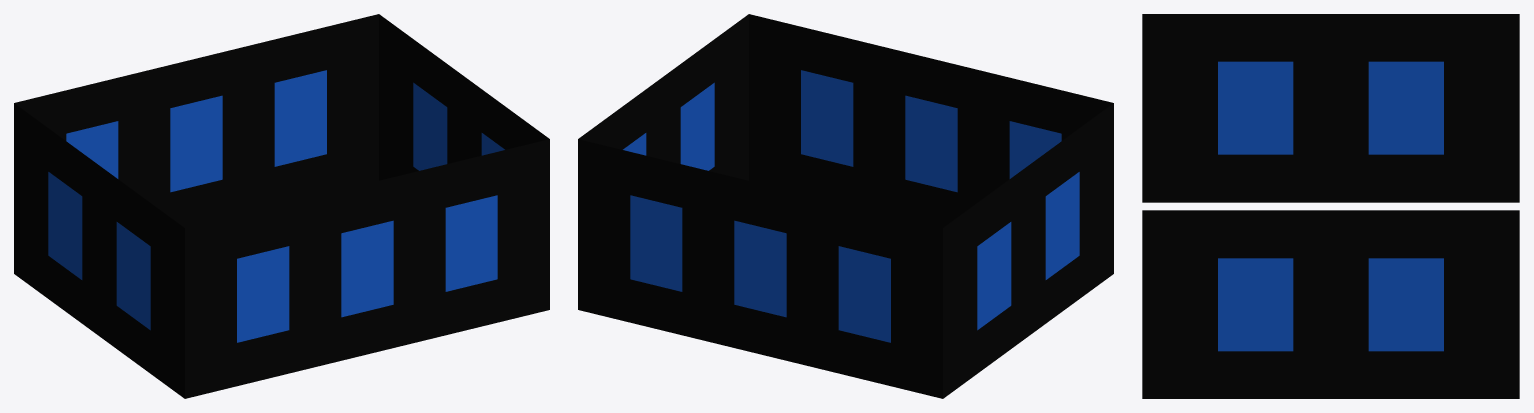
The model's file is CityBuildingC_03_floor.fbx.
3 views of the same model, side by side, from view 1: azimuth 30°, elevation 25°; view 2: azimuth 150°, elevation 25°; view 3: azimuth 270°, elevation 25° (orthographic). The views are drawn at different scales.
Visible parts, largest first — view 1: CityBuildingC_03_floor; view 2: CityBuildingC_03_floor; view 3: CityBuildingC_03_floor.
Part boxes in pixels (<box>): CityBuildingC_03_floor: <box>14,14,549,398</box>; CityBuildingC_03_floor: <box>578,14,1113,398</box>; CityBuildingC_03_floor: <box>1142,14,1519,398</box>.
Size of the model in its own units: 0.6706 by 0.3 by 0.5438.
